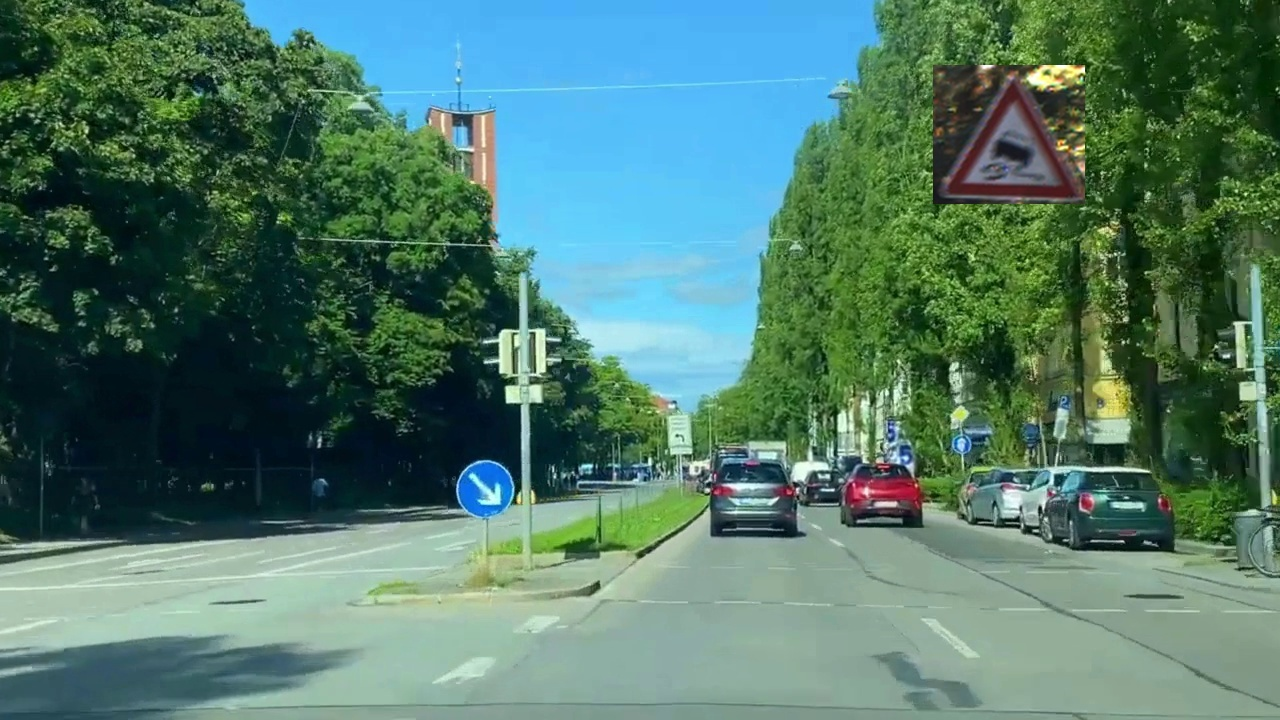Slippery: (933, 65, 1085, 204)
